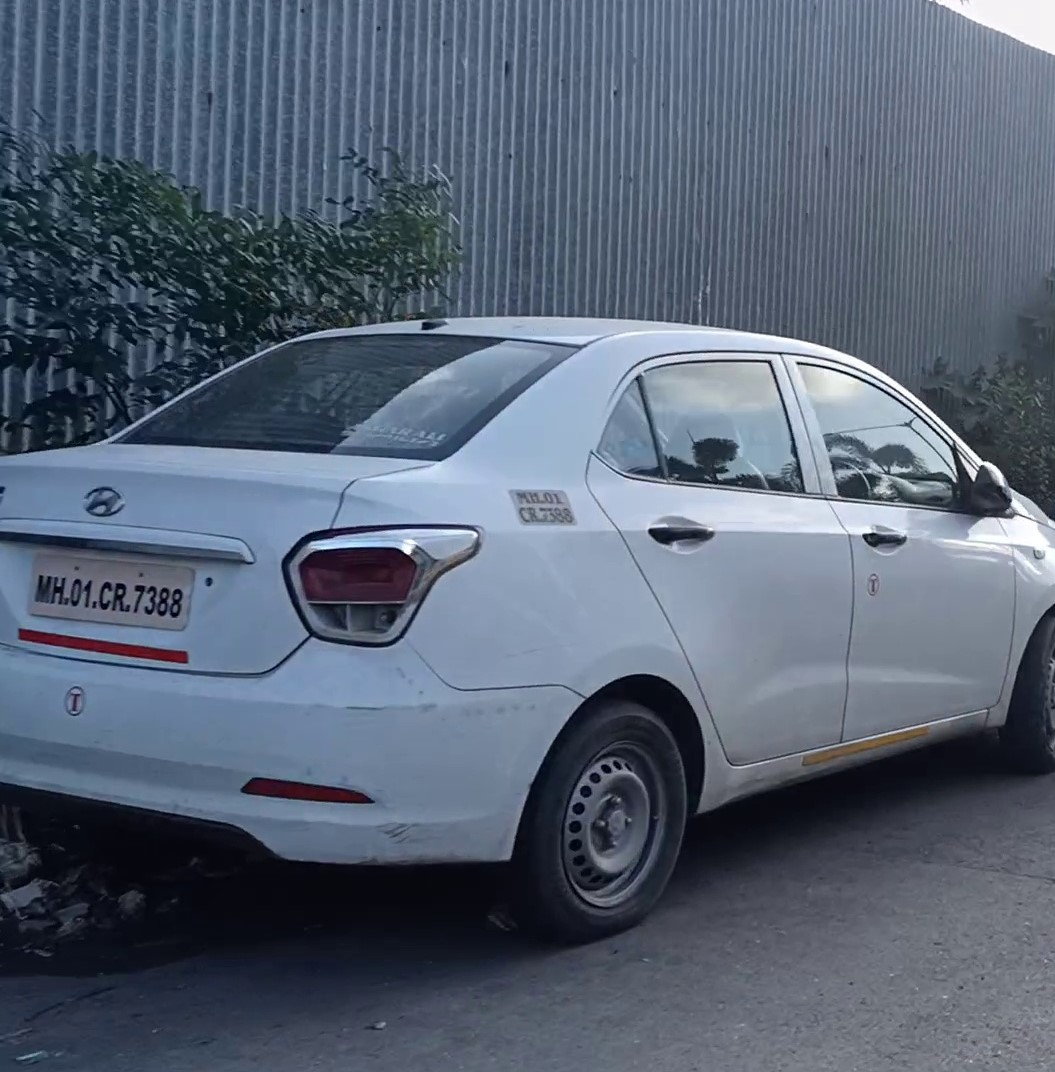MH01CR7388: (30, 552, 192, 633)
